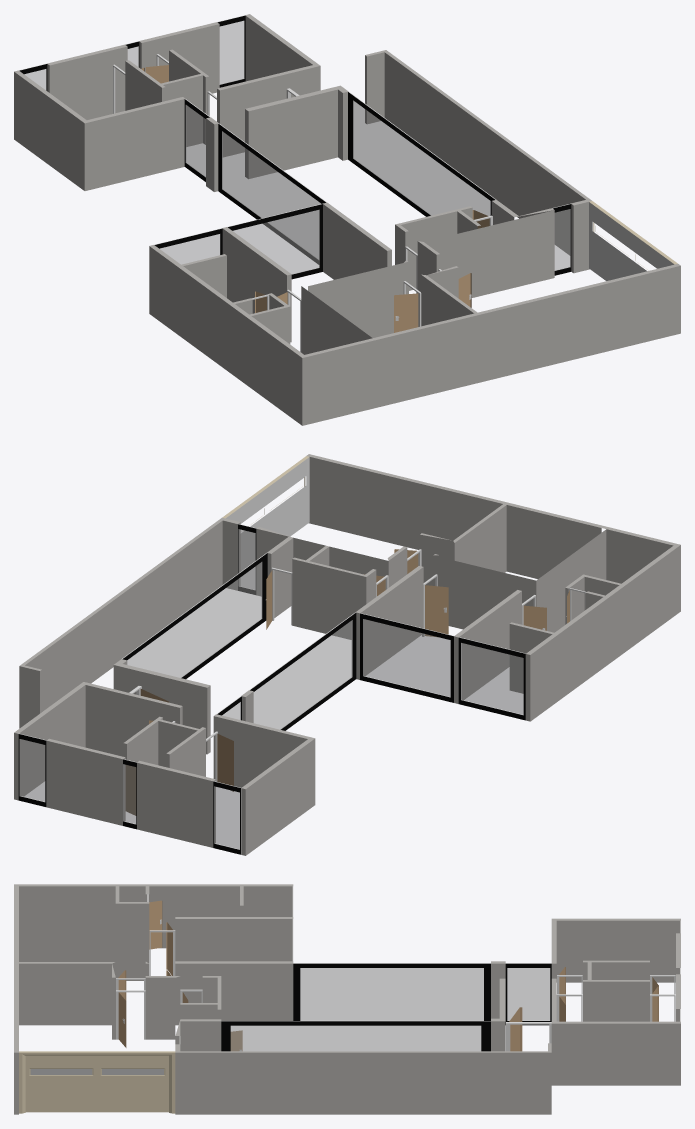
The model's file is plano_light.glb.
3 renders of one model, top to bottom at view 1: azimuth 30°, elevation 25°; view 2: azimuth 150°, elevation 25°; view 3: azimuth 270°, elevation 25°, orthographic. The views are drawn at different scales.
Parts seen in each view (by area): view 1: plano_a8a341, plano_bf6eea, plano_29c430, plano_be2f1f, plano_d48853; view 2: plano_a8a341, plano_bf6eea, plano_be2f1f, plano_29c430, plano_d48853; view 3: plano_a8a341, plano_bf6eea, plano_0a0b12, plano_be2f1f, plano_d48853, plano_29c430, plano_71623e.
Boxes of the visible parts, left/top/right/bottom form: plano_a8a341: left=14, top=14, right=680, bottom=425; plano_bf6eea: left=24, top=21, right=570, bottom=274; plano_29c430: left=19, top=15, right=674, bottom=352; plano_be2f1f: left=19, top=15, right=571, bottom=279; plano_d48853: left=141, top=65, right=489, bottom=332; plano_a8a341: left=14, top=454, right=680, bottom=855; plano_bf6eea: left=20, top=529, right=523, bottom=849; plano_be2f1f: left=18, top=524, right=525, bottom=854; plano_29c430: left=19, top=457, right=586, bottom=854; plano_d48853: left=125, top=549, right=569, bottom=815; plano_a8a341: left=14, top=884, right=680, bottom=1114; plano_bf6eea: left=230, top=968, right=550, bottom=1051; plano_0a0b12: left=19, top=1051, right=175, bottom=1113; plano_be2f1f: left=221, top=963, right=551, bottom=1051; plano_d48853: left=118, top=900, right=658, bottom=1051; plano_29c430: left=116, top=886, right=680, bottom=1051; plano_71623e: left=30, top=1069, right=163, bottom=1074.
Size of the model in its own units: 16.05 by 2.89 by 26.85.
